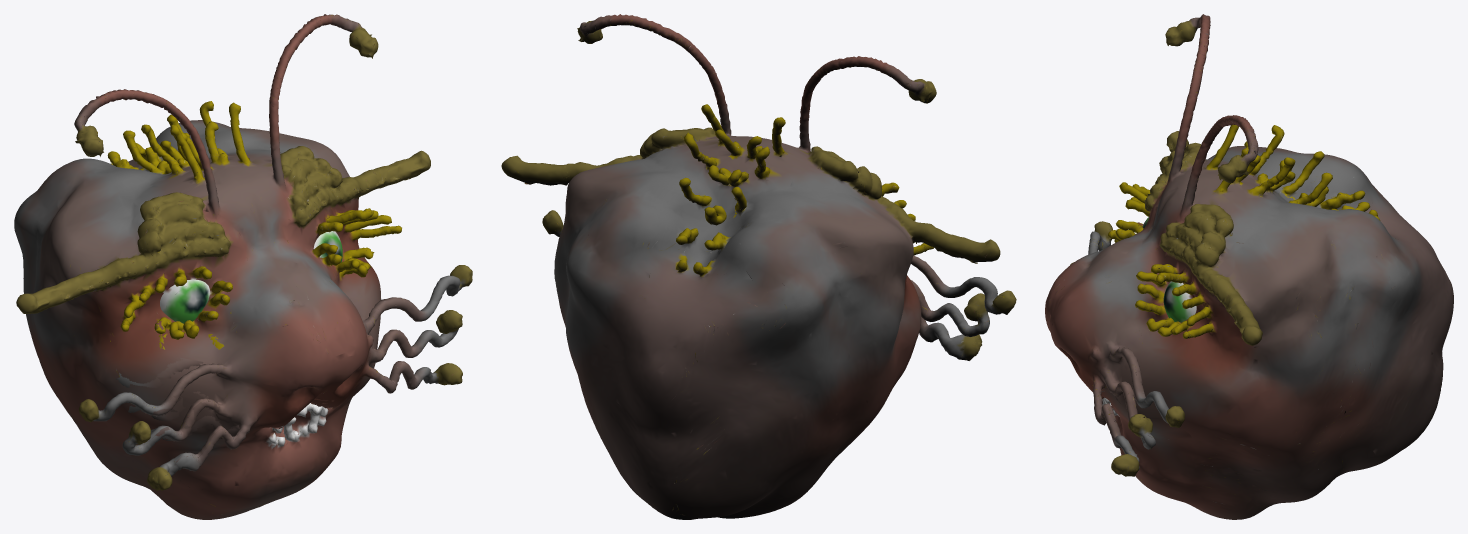
File: mediumhead1.fbx
The picture shows the model from 3 angles, left to right: view 1: azimuth 30°, elevation 25°; view 2: azimuth 150°, elevation 25°; view 3: azimuth 270°, elevation 25°; orthographic projection. The views are drawn at different scales.
Visible parts, largest first — view 1: node; view 2: node; view 3: node.
Part boxes in pixels (x1=…): node: x1=14, y1=14, x2=472, y2=519; node: x1=501, y1=14, x2=1016, y2=519; node: x1=1045, y1=14, x2=1453, y2=519.
Bounding box in the file's own units: 57.22 × 56.12 × 47.04.
Materials: 1 (1 with a texture image).
